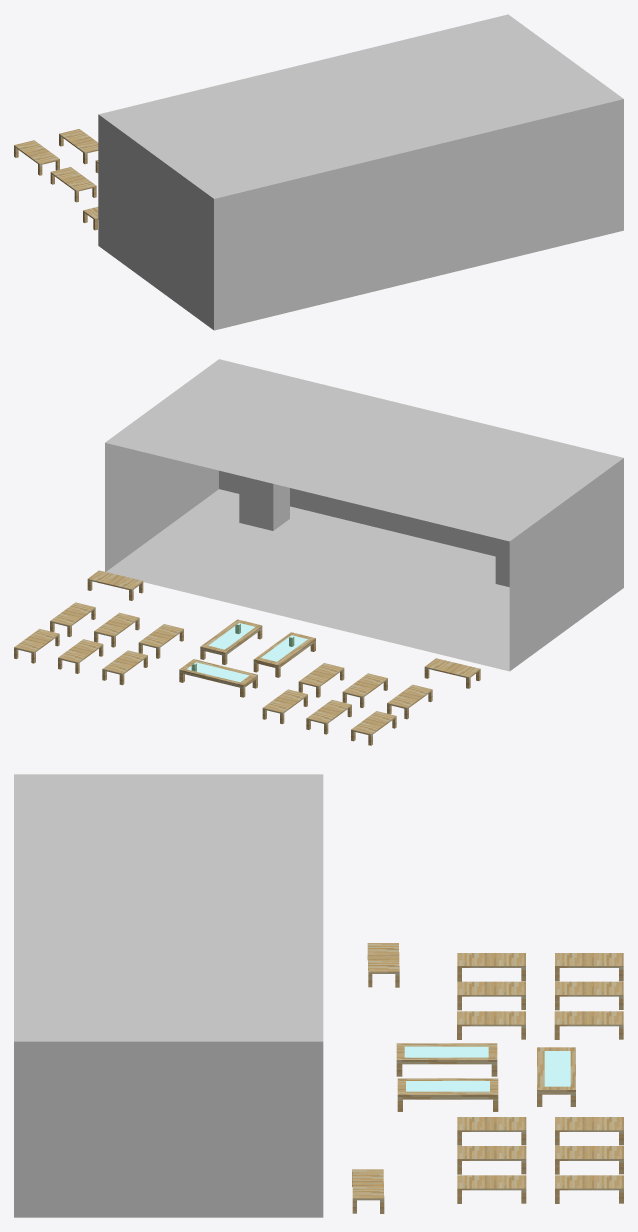
Rendered from future_shop.gltf.
The picture shows the model from 3 angles, top to bottom: view 1: azimuth 30°, elevation 25°; view 2: azimuth 150°, elevation 25°; view 3: azimuth 270°, elevation 25°; orthographic projection. The views are drawn at different scales.
Parts seen in each view (by area): view 1: building, 组件#5 (×3); view 2: building, 组件#5 (×14), 组件#4 (×3); view 3: building, 组件#5 (×14), 组件#4 (×3).
Boxes of the visible parts, box(x1,y1,x2,y2) form: building: box(98, 14, 623, 330); 组件#5 (×3): box(14, 129, 98, 202); building: box(105, 359, 623, 671); 组件#5 (×14): box(14, 570, 480, 745); 组件#4 (×3): box(179, 619, 315, 697); building: box(14, 774, 323, 1217); 组件#5 (×14): box(352, 943, 623, 1213); 组件#4 (×3): box(396, 1043, 575, 1111).
Size of what is drawn, in the model's own units: 22.36 by 6.86 by 21.56.
Materials: 5 (1 with a texture image).
